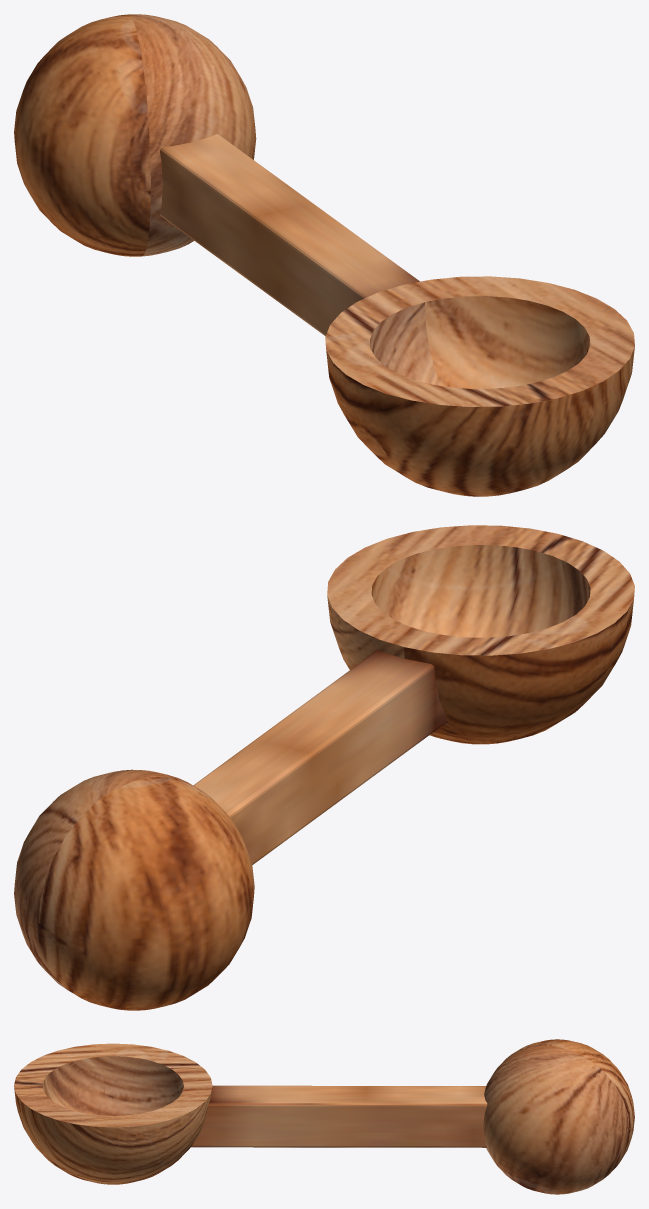
The model's file is BrazoCatapulta.obj.
The picture shows the model from 3 angles, top to bottom: view 1: azimuth 30°, elevation 25°; view 2: azimuth 150°, elevation 25°; view 3: azimuth 270°, elevation 25°; orthographic projection. The views are drawn at different scales.
Parts seen in each view (by area): view 1: BRAZO_metal; view 2: BRAZO_metal; view 3: BRAZO_metal.
Part boxes in pixels (x1=…): BRAZO_metal: x1=14, y1=14, x2=634, y2=496; BRAZO_metal: x1=14, y1=525, x2=634, y2=1010; BRAZO_metal: x1=14, y1=1039, x2=634, y2=1194.
Size of the model in its own units: 0.3696 by 0.289 by 1.16.
